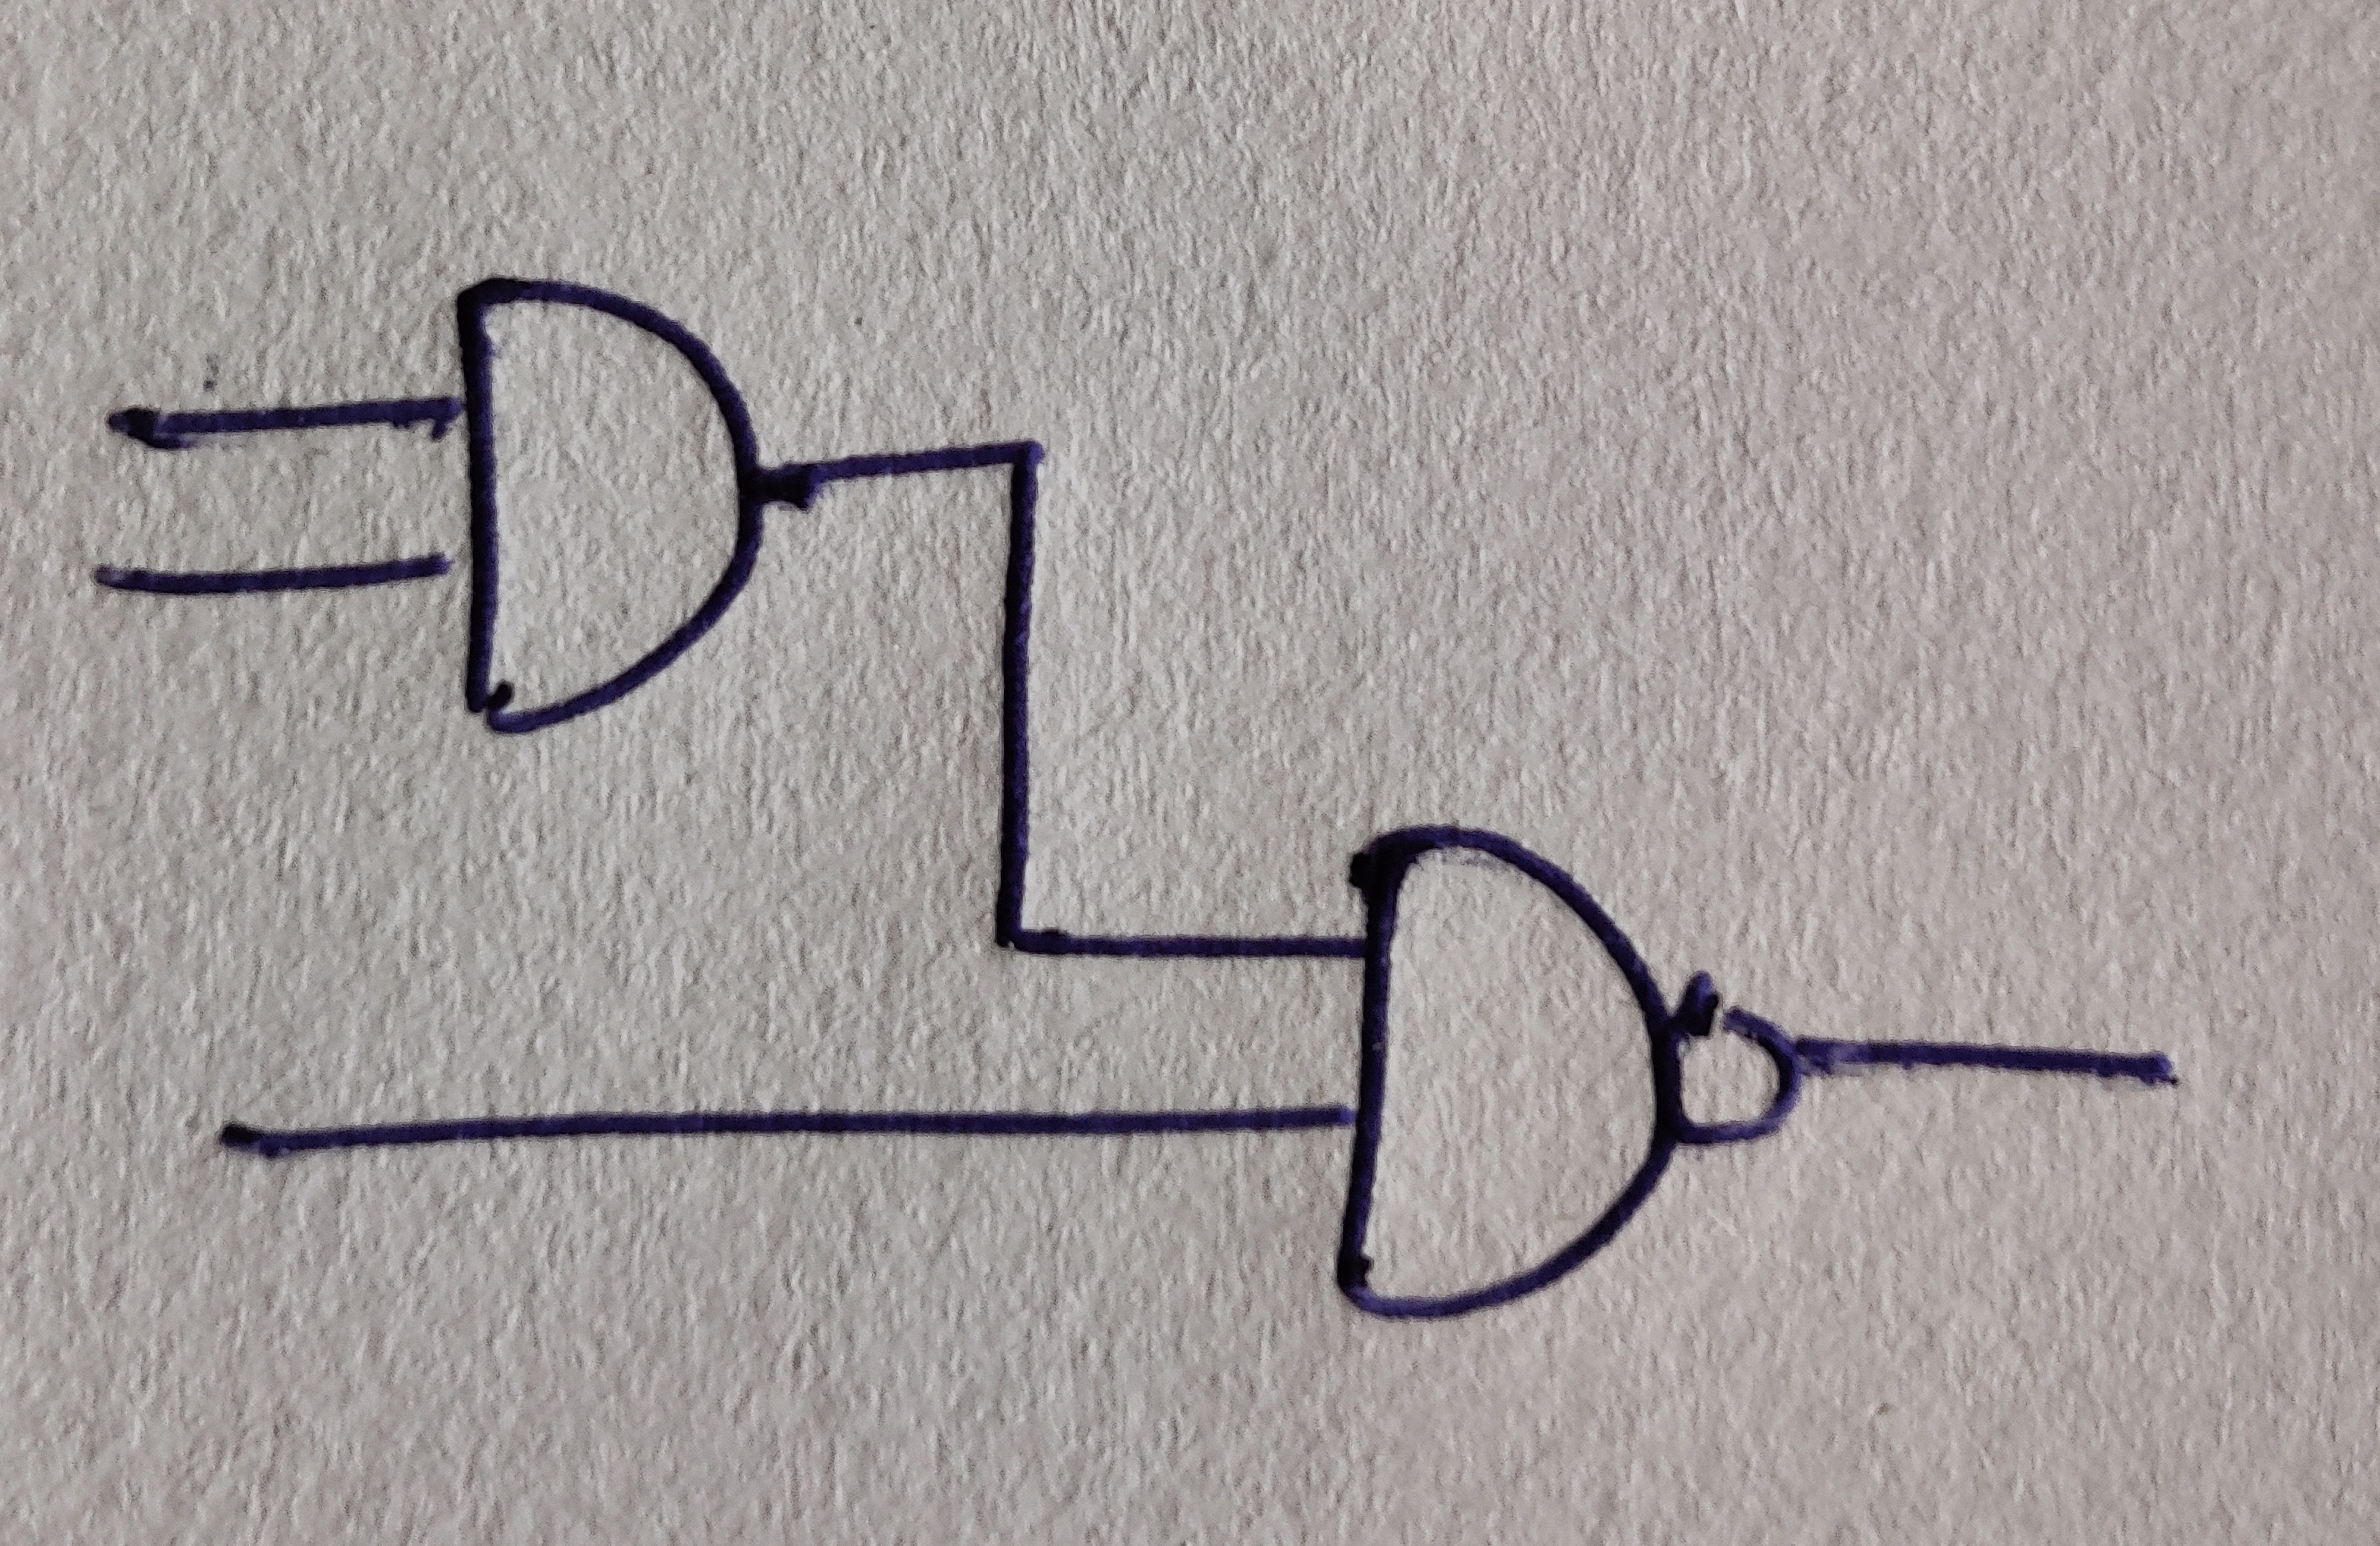and: (1336, 826, 1681, 1317), (454, 276, 765, 734)
not: (1669, 970, 1804, 1143)
